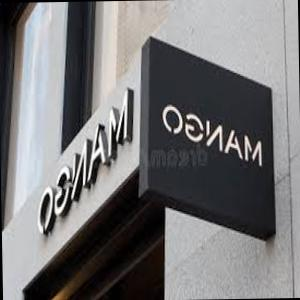mango: (0, 78, 170, 248), (147, 92, 280, 176)
